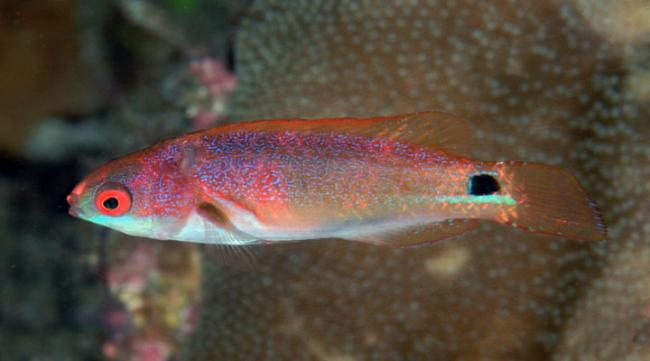fish: (67, 111, 606, 251)
